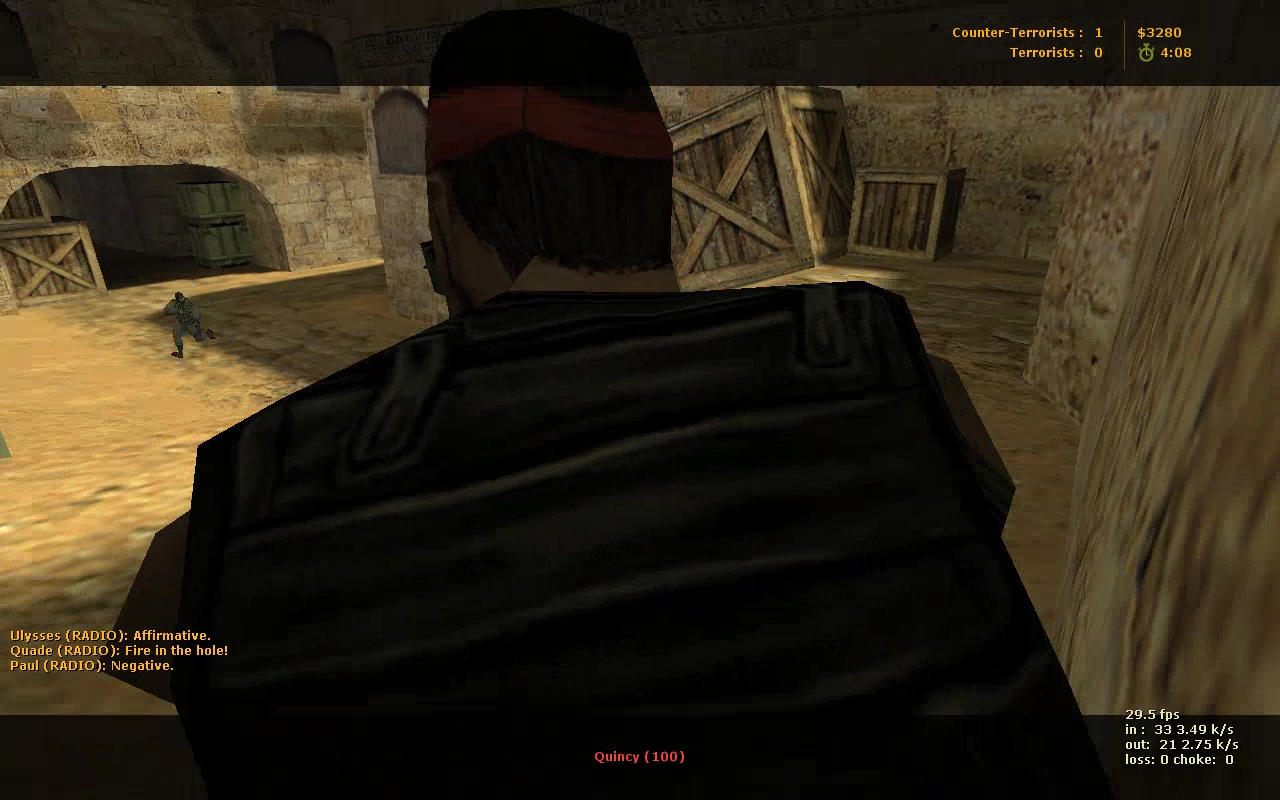ct: (163, 292, 218, 358)
